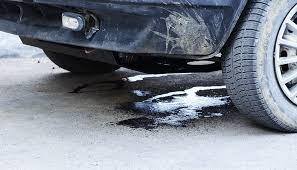water accumulation: (68, 71, 232, 130)
